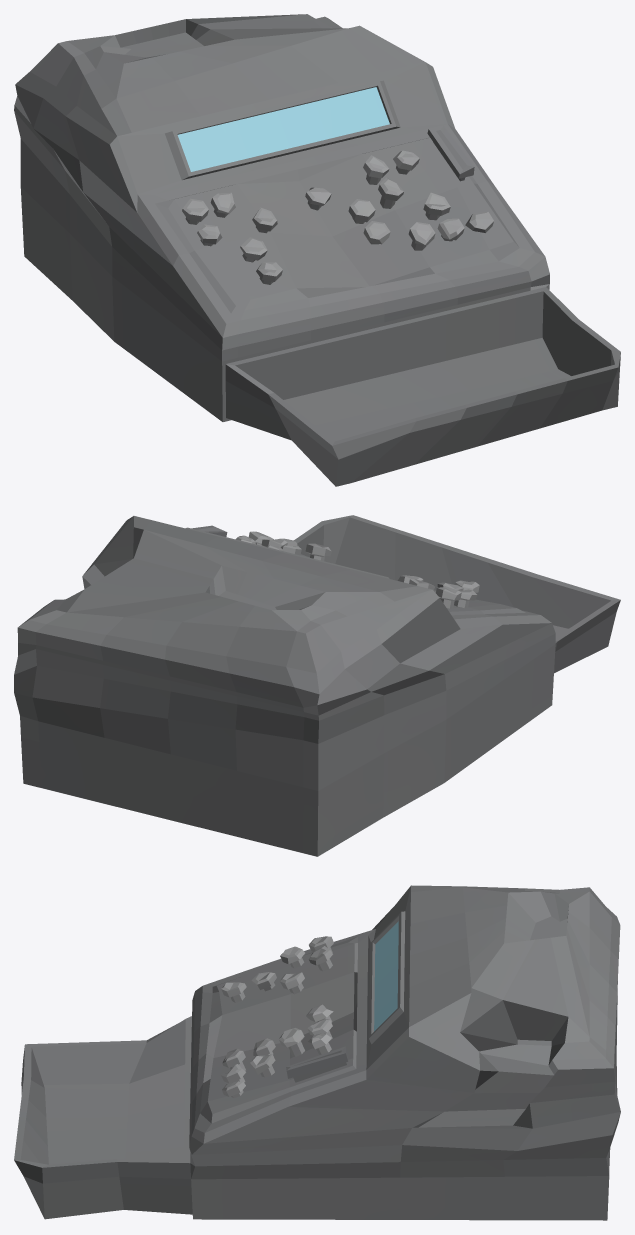
File: cash_register.glb
3 renders of one model, top to bottom at view 1: azimuth 30°, elevation 25°; view 2: azimuth 150°, elevation 25°; view 3: azimuth 270°, elevation 25°, orthographic. The views are drawn at different scales.
Visible parts, largest first — view 1: cash_register; view 2: cash_register; view 3: cash_register.
Boxes of the visible parts, x1,y1,x2,y2 form: cash_register: (14, 14, 620, 486); cash_register: (14, 515, 620, 856); cash_register: (14, 885, 620, 1220).
Size of the model in its own units: 0.2696 by 0.1743 by 0.441.
1 material, 1 textured.
